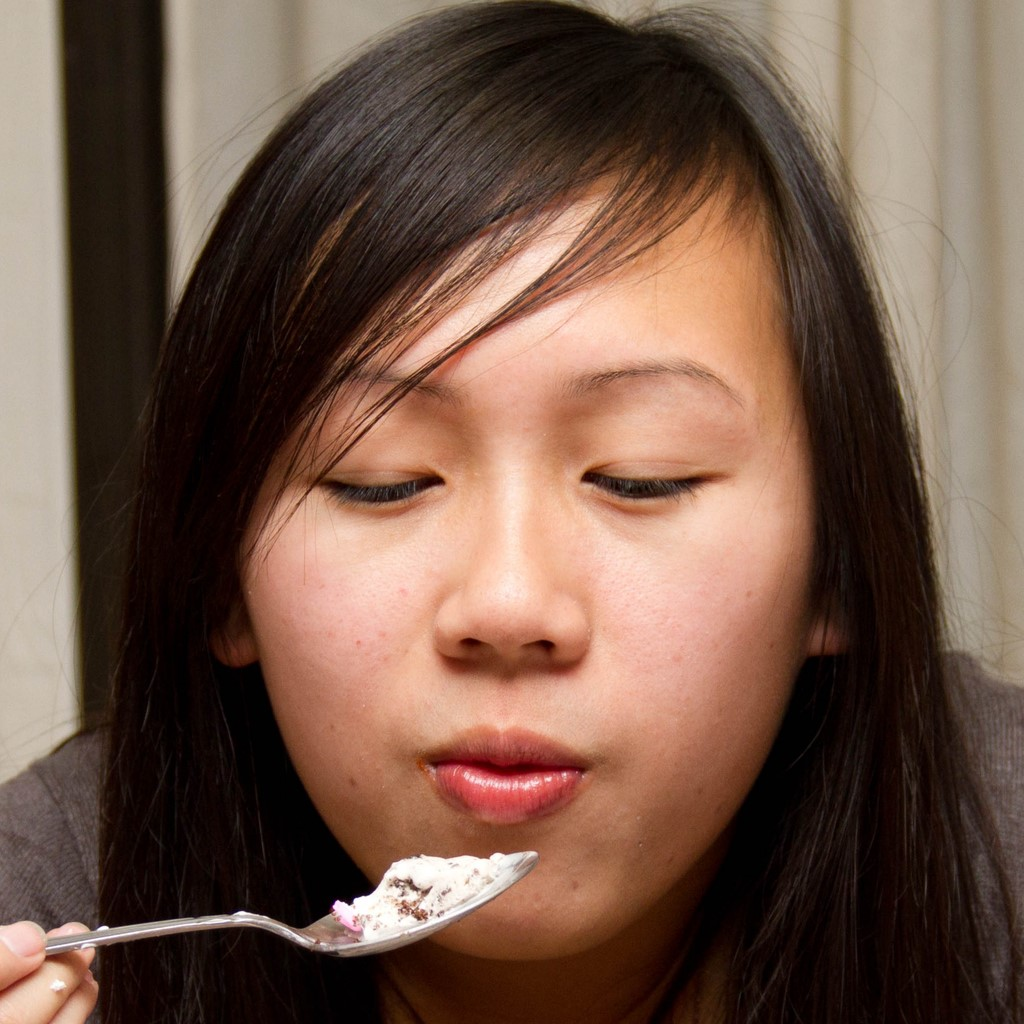sin_mascara: (223, 103, 805, 972)
